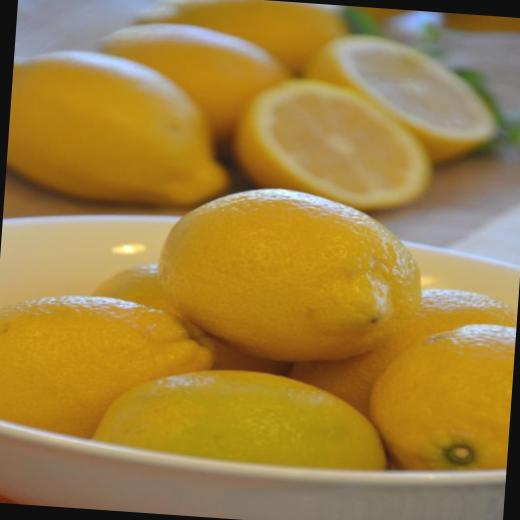Grape: (0, 165, 520, 482), (4, 0, 506, 226)
